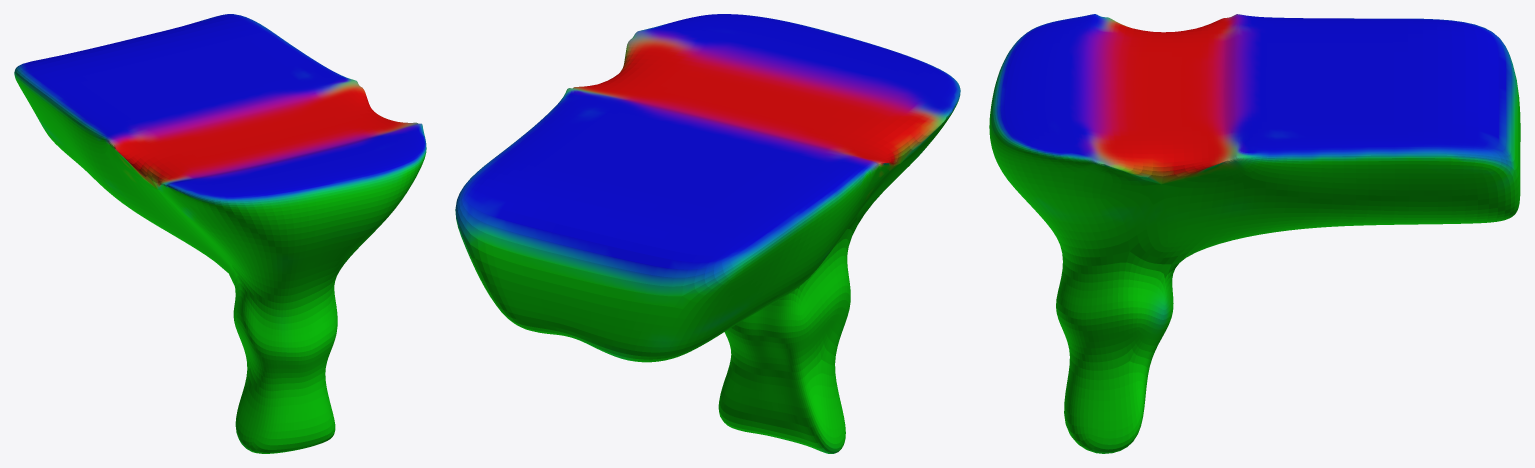
Rendered from level_one_platform_2.fbx.
The picture shows the model from 3 angles, left to right: view 1: azimuth 30°, elevation 25°; view 2: azimuth 150°, elevation 25°; view 3: azimuth 270°, elevation 25°; orthographic projection. The views are drawn at different scales.
Parts seen in each view (by area): view 1: Cube.004; view 2: Cube.004; view 3: Cube.004.
Part boxes in pixels (bbox=[...]): Cube.004: bbox=[14, 14, 426, 453]; Cube.004: bbox=[455, 14, 960, 453]; Cube.004: bbox=[989, 14, 1520, 453].
Size of the model in its own units: 415 by 632 by 459.
